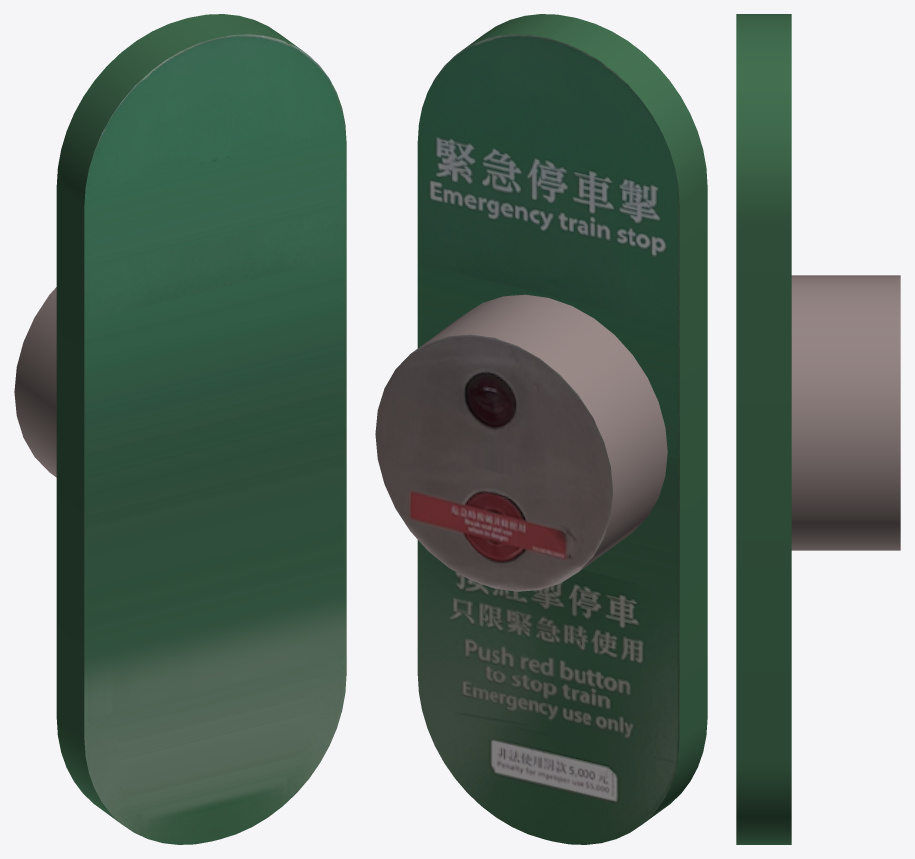
Rendered from esb_tml.obj.
The picture shows the model from 3 angles, left to right: view 1: azimuth 30°, elevation 25°; view 2: azimuth 150°, elevation 25°; view 3: azimuth 270°, elevation 25°; orthographic projection.
Visible parts, largest first — view 1: Cube, Cylinder; view 2: Cube, Cylinder; view 3: Cube, Cylinder.
Boxes of the visible parts, x1,y1,x2,y2 form: Cube: (56, 14, 346, 844); Cylinder: (14, 287, 56, 477); Cube: (417, 14, 707, 844); Cylinder: (375, 294, 667, 591); Cube: (736, 14, 791, 844); Cylinder: (791, 275, 900, 550).
Bounding box in the file's own units: 0.3419 × 1 × 0.1857.
1 material, 1 textured.
